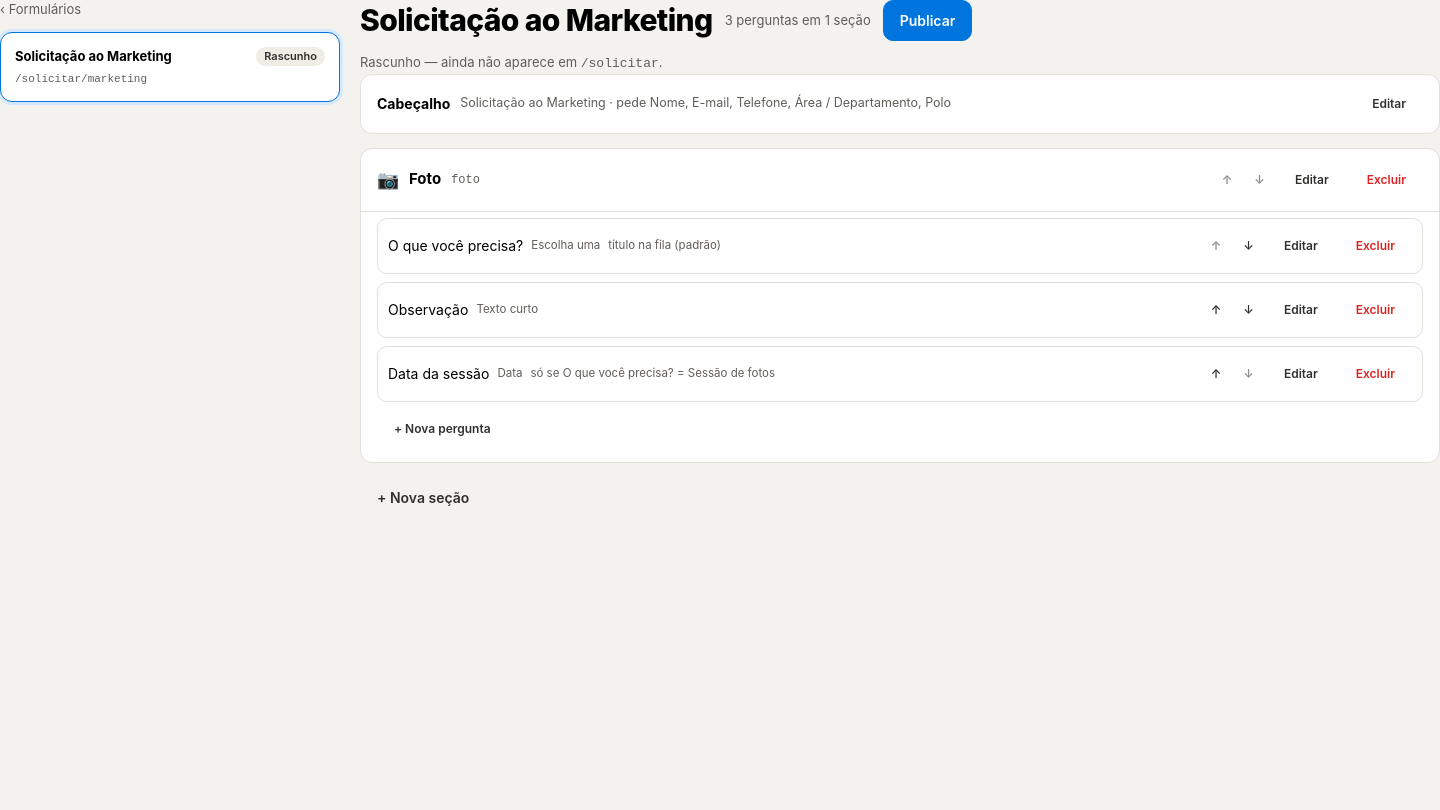
Test case: o cabeçalho do formulário › desmarcar um campo apaga o rótulo e avisa que ele some
Step 1. Click the button "Editar" in the row of "· pede" → (1389, 104), box [1355,84,1423,122]
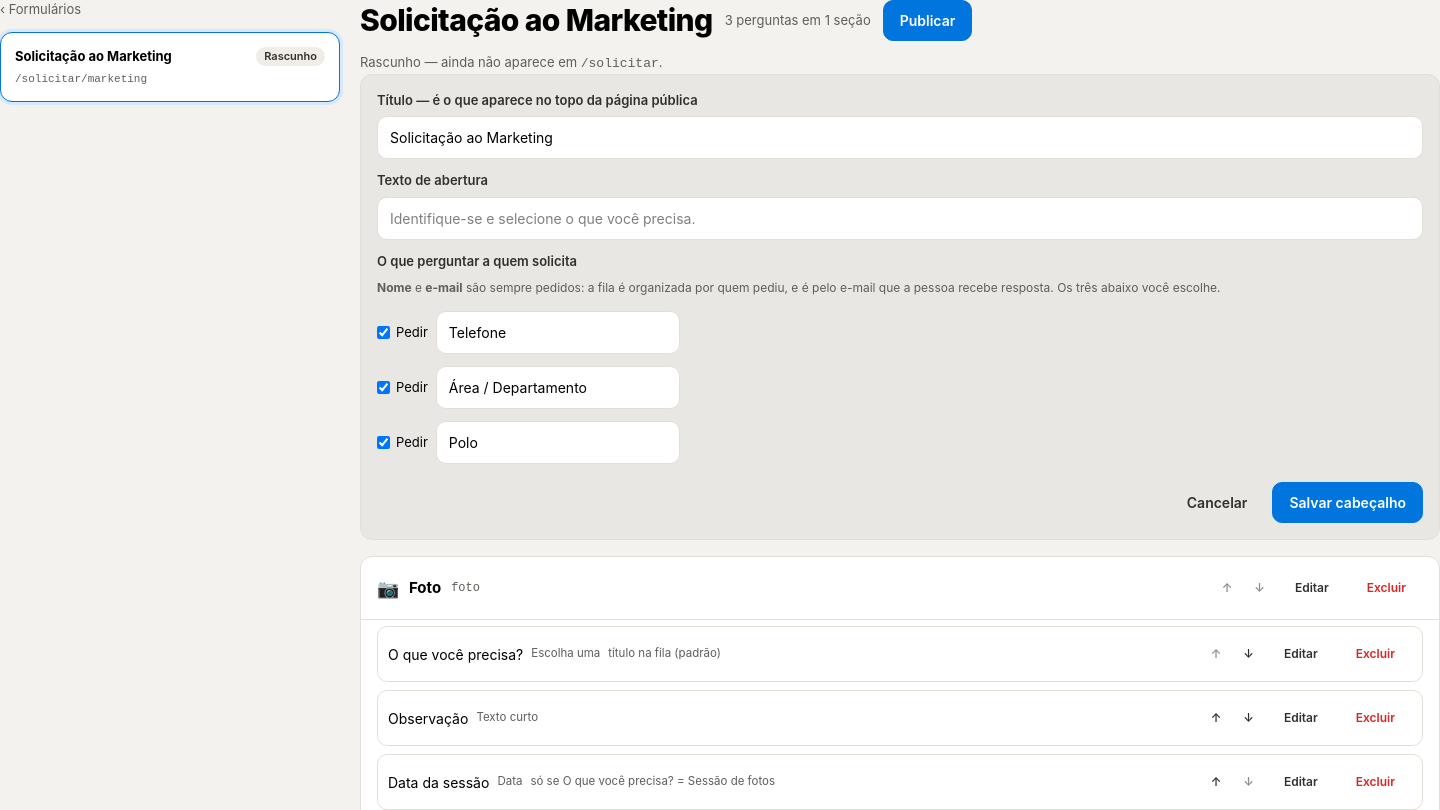
Step 2. Click the 3rd checkbox labelled "Pedir" → (384, 442), box [377,436,390,449]
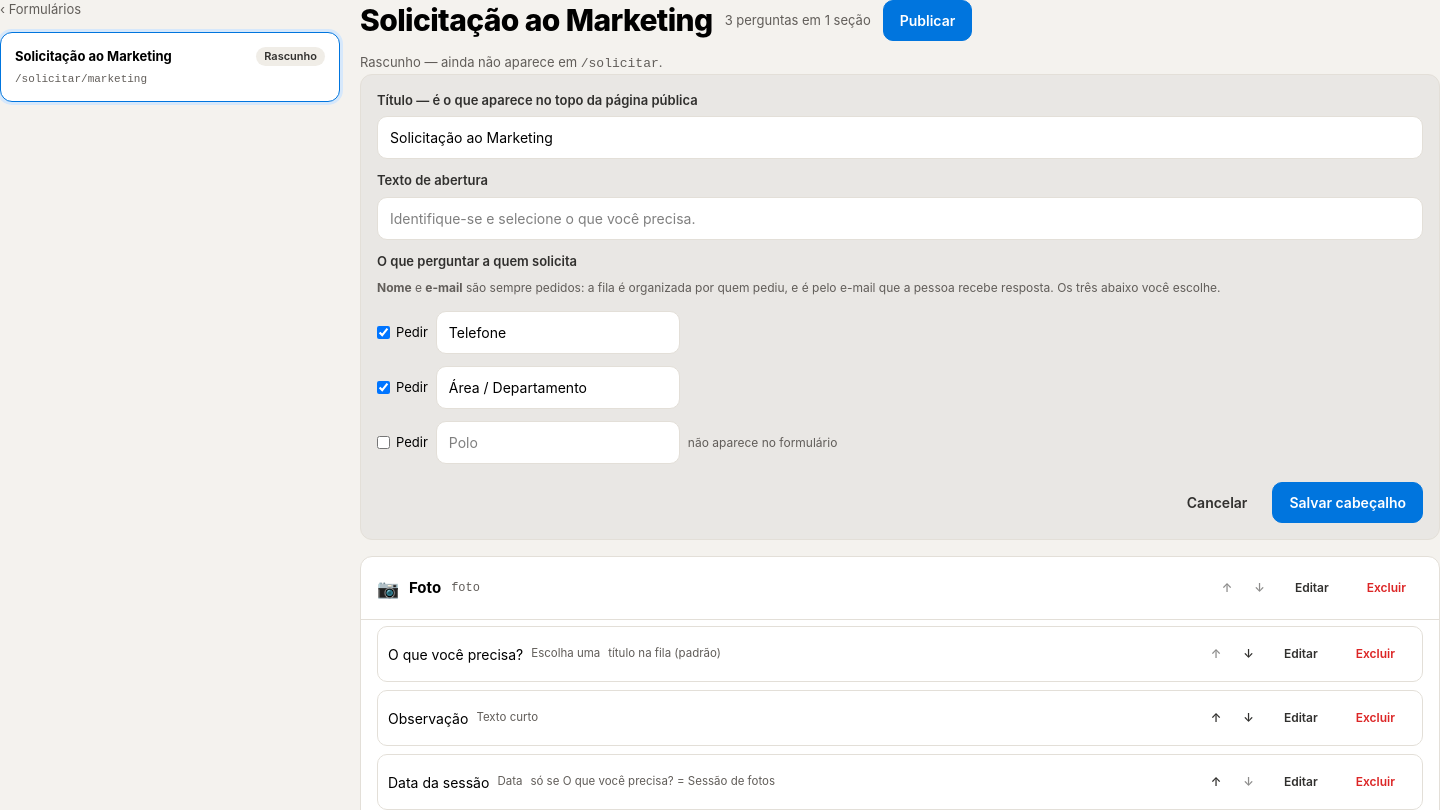
Expected: the text "não aparece no formulário" is shown, [688,434,837,452]
